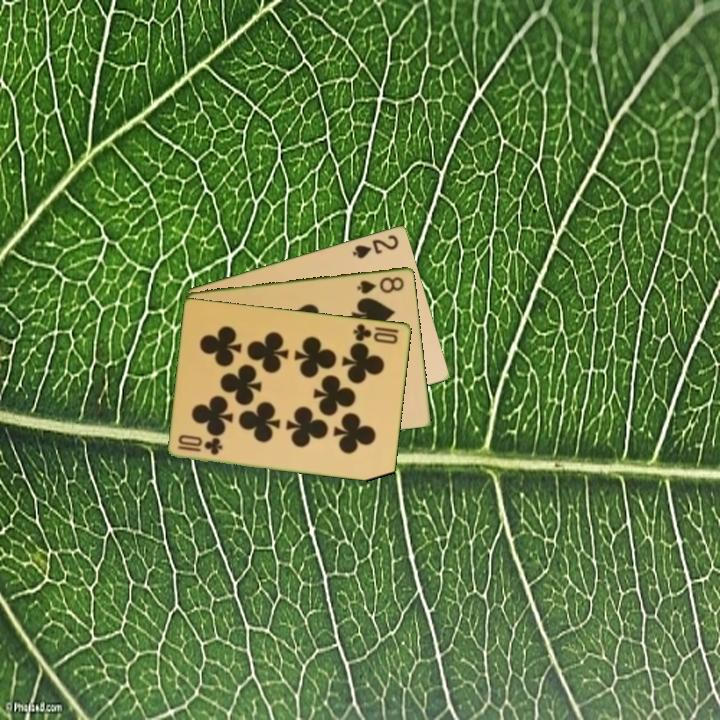10c: (350, 320, 401, 347), (174, 436, 226, 458)
2s: (349, 231, 402, 261)
8s: (354, 273, 407, 296)
